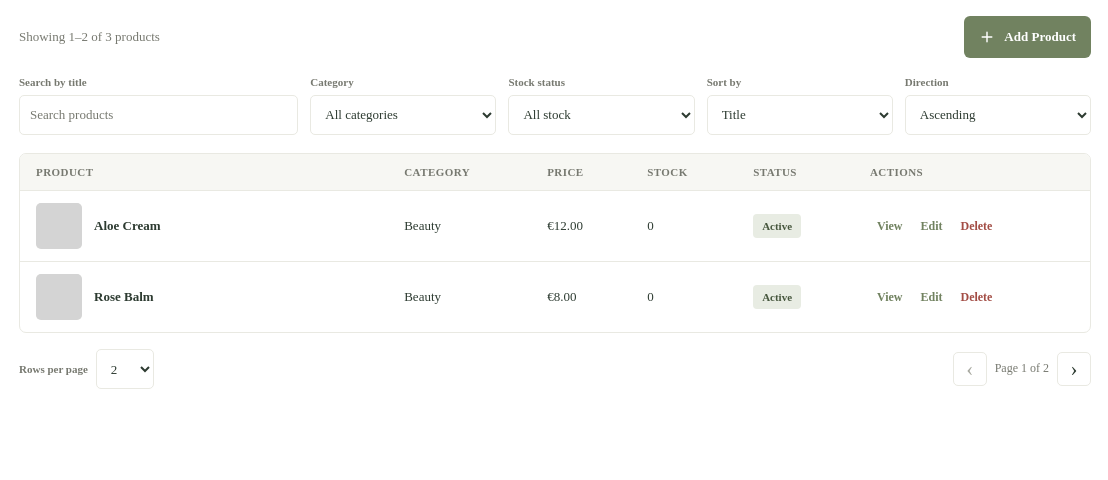
Scenario: Products workflows › searches products and applies stock and category filters through accessible controls
Expected: the text "Aloe Cream" is shown, [94,217,160,235]
Select "5" in the dropdown labelled "Rows per page" at (125, 369), box [96,349,154,389]
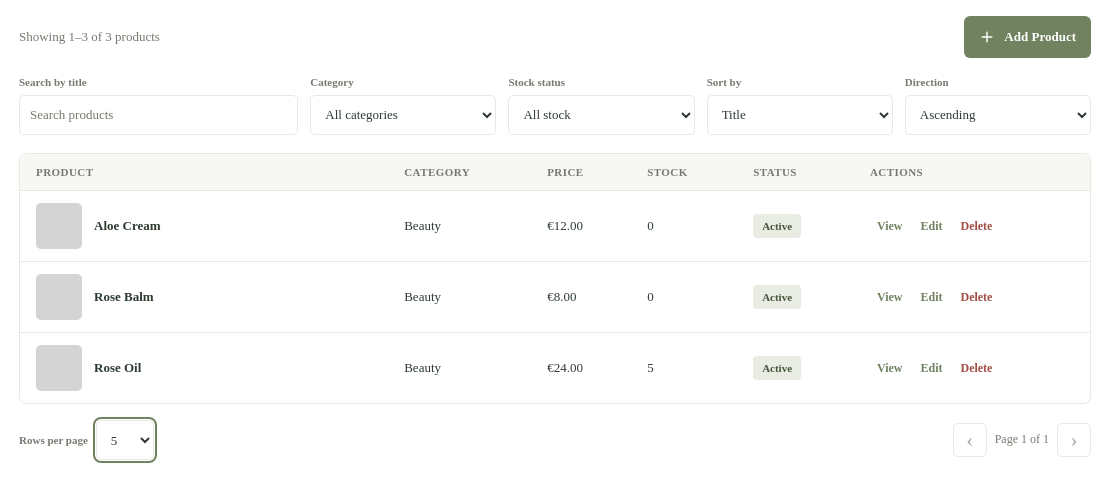
Expected: the text "Rose Oil" is shown, [94,359,141,377]
Type "rose" into the search field labelled "Search by title" at (159, 115), box [19,95,298,135]
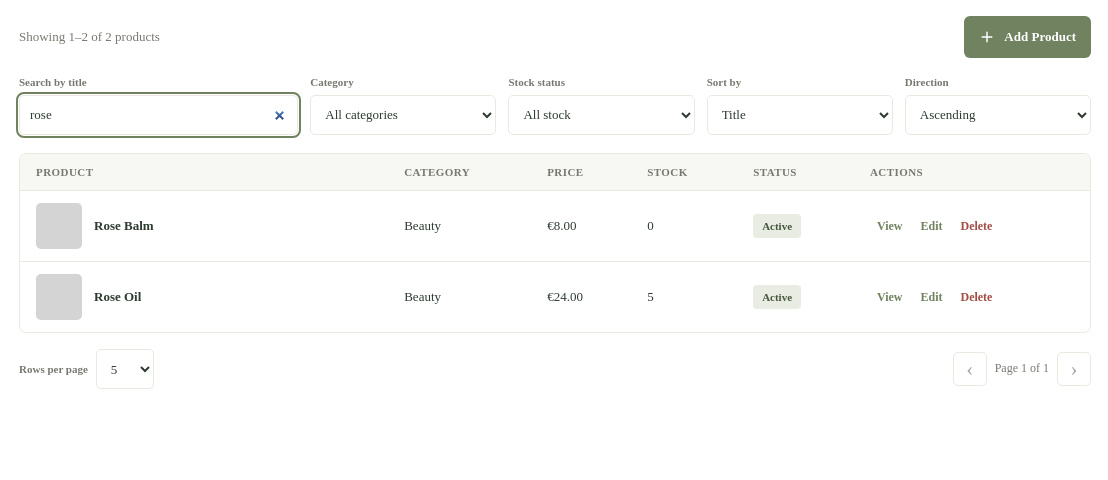
Select "Out of stock" in the dropdown labelled "Stock status" at (602, 115), box [508,95,695,135]
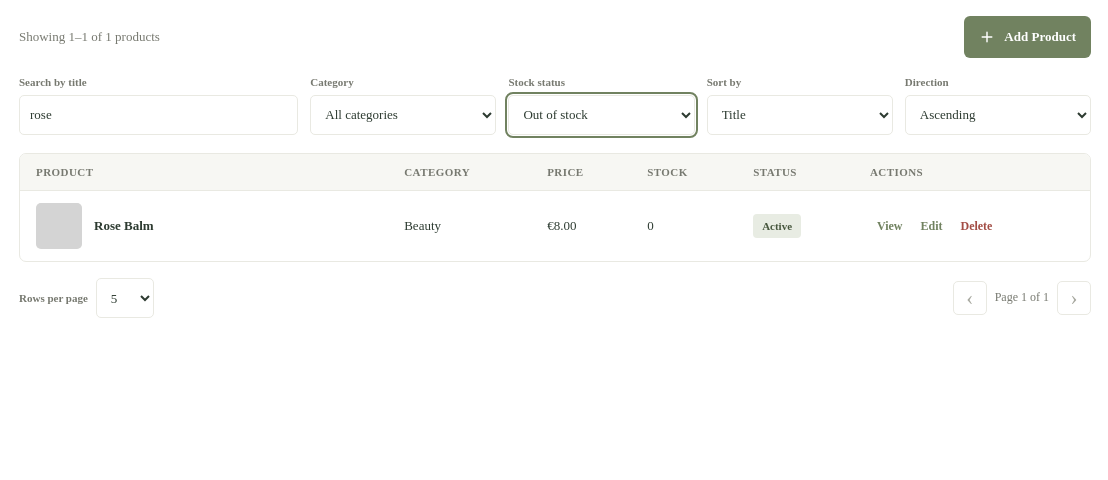
Expected: the text "Rose Balm" is shown, [94,217,154,235]
Expected: the text "Rose Oil" is gone
Clear the search field labelled "Search by title" at (159, 115), box [19,95,298,135]
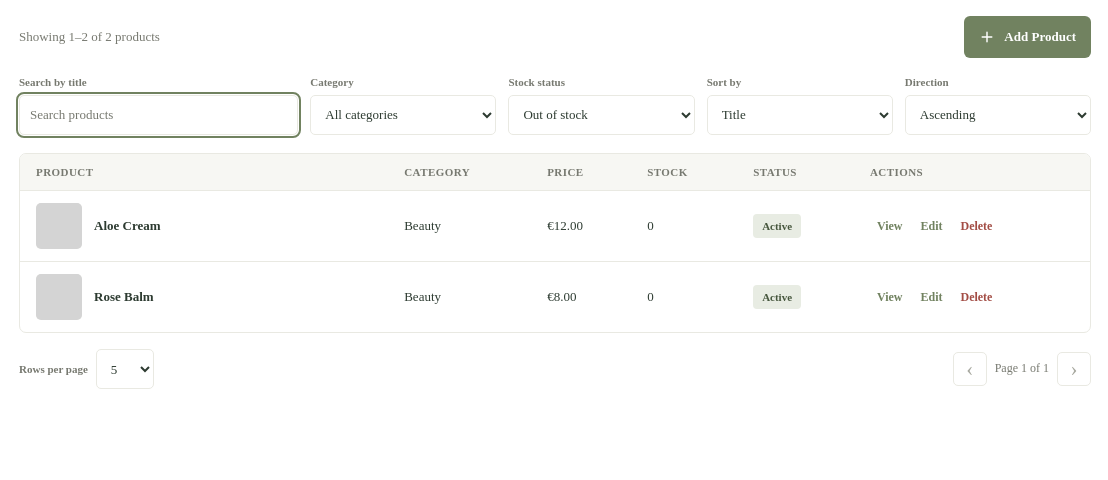
Select "All stock" in the dropdown labelled "Stock status" at (602, 115), box [508,95,695,135]
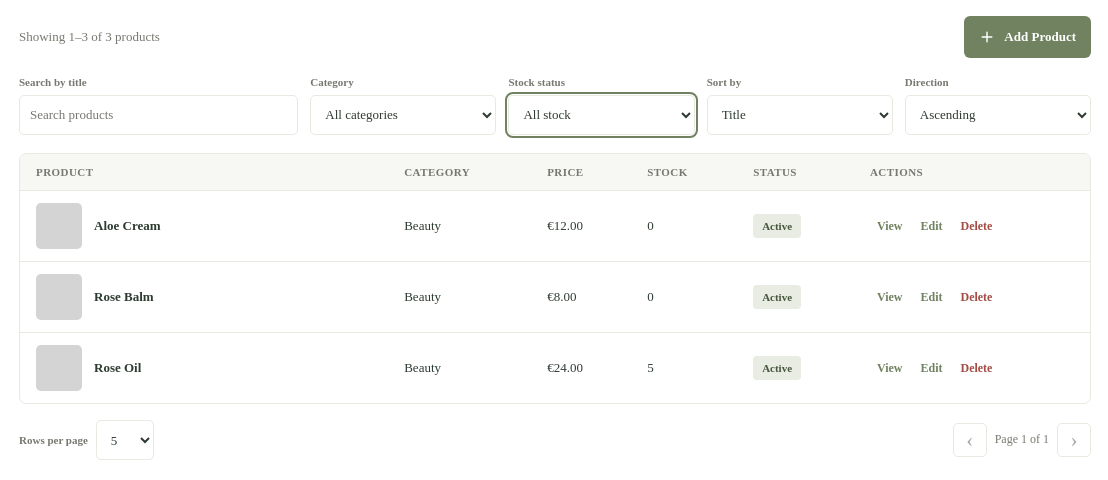
Select "Skin Care" in the dropdown labelled "Category" at (403, 115), box [310,95,496,135]
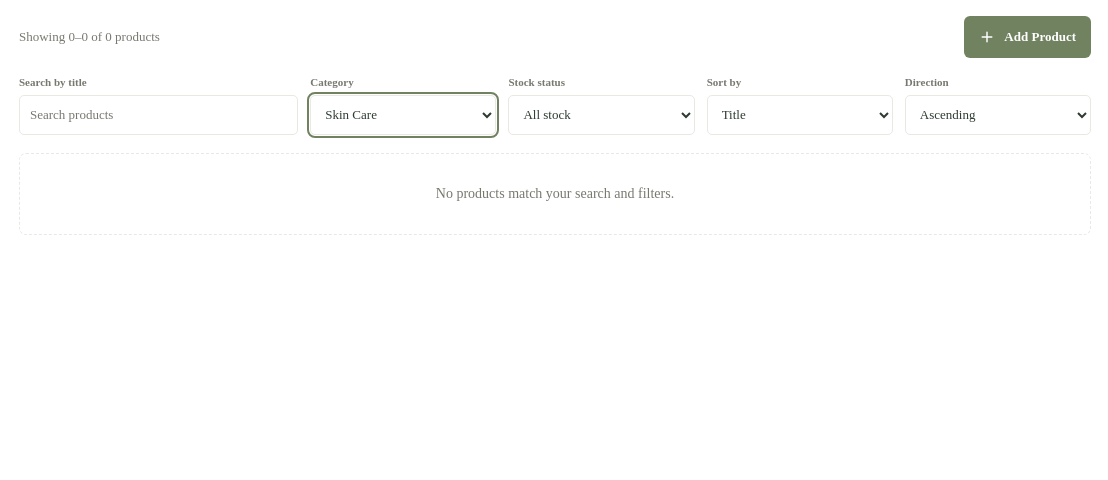
Expected: the message reads "No products match your search and filters.", [436,186,674,201]
